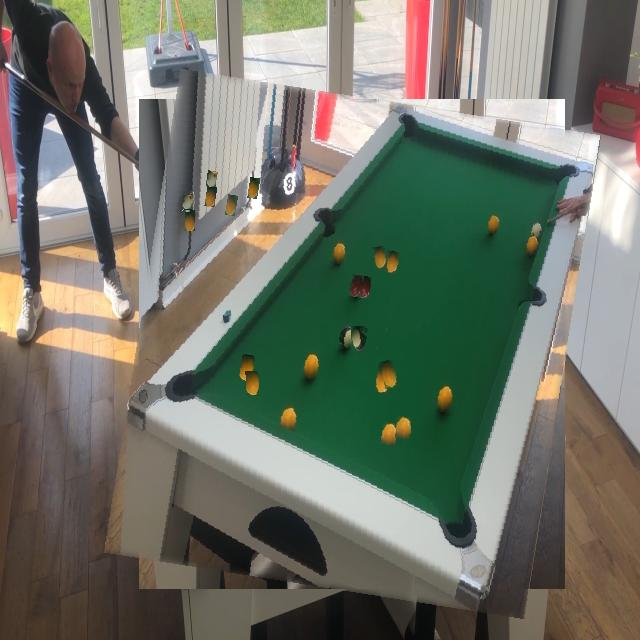Ball: (381, 360, 398, 388), (352, 326, 366, 352), (396, 416, 411, 439), (246, 372, 259, 398), (349, 274, 363, 298), (373, 246, 386, 269), (226, 195, 237, 216), (185, 210, 195, 231), (183, 196, 193, 212)
Billiard table: (122, 84, 583, 604)
